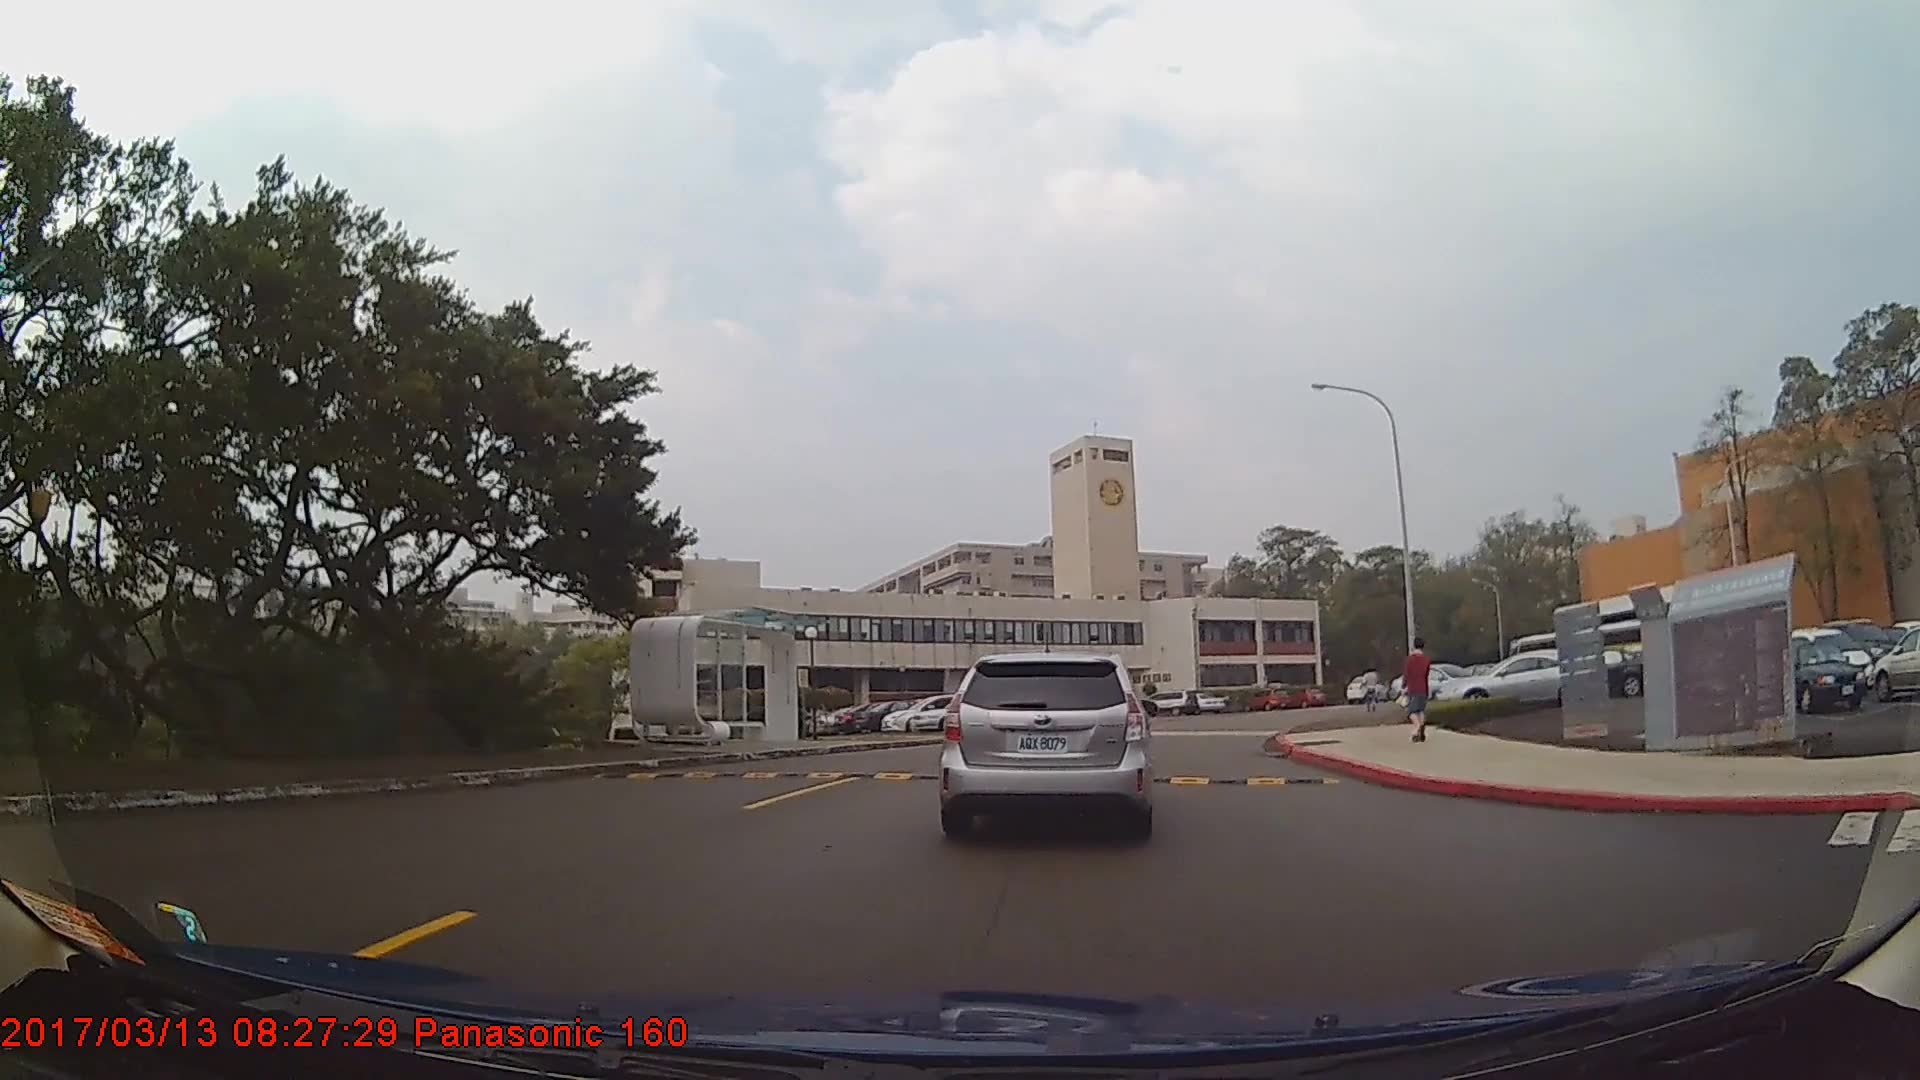pedestrian: (1402, 643, 1434, 750), (1360, 664, 1385, 715)
vehicle: (936, 651, 1147, 838), (1432, 651, 1604, 711), (1767, 641, 1866, 714), (1870, 626, 1920, 700), (1142, 690, 1202, 717)
